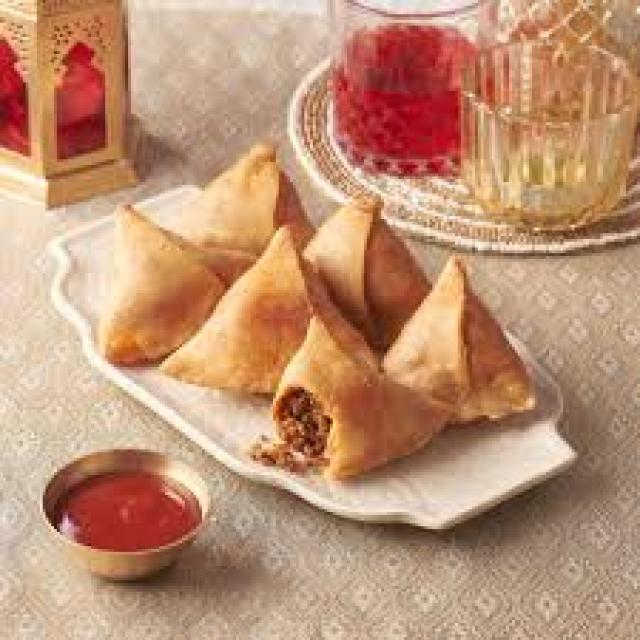SAMOSA: (158, 225, 394, 392), (246, 318, 457, 476), (387, 253, 533, 419), (173, 143, 321, 285), (298, 191, 427, 347), (100, 204, 225, 361)
